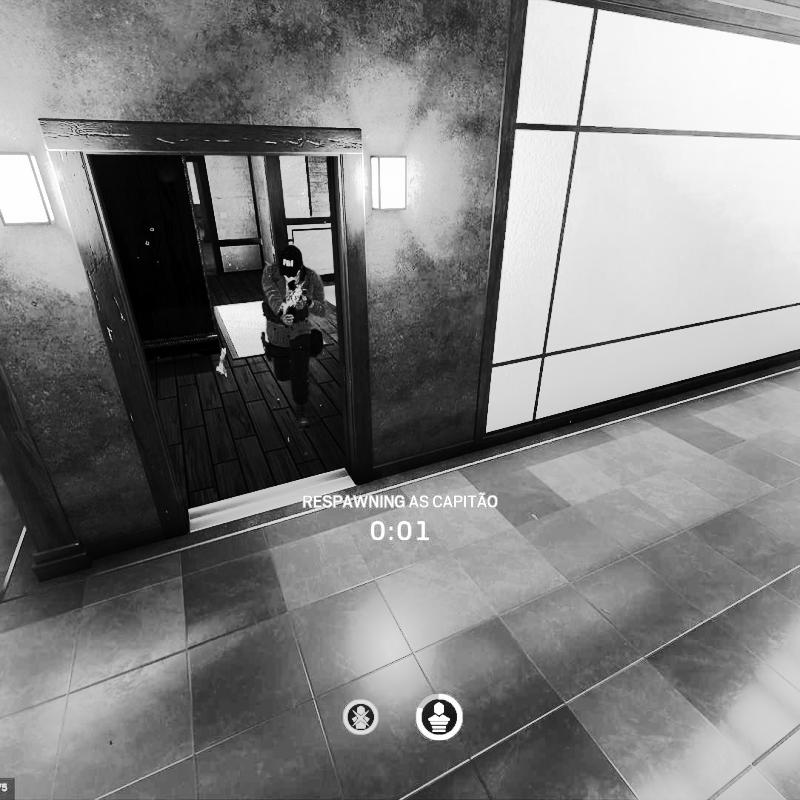Character: (257, 242, 332, 428)
Head: (275, 244, 306, 281)
